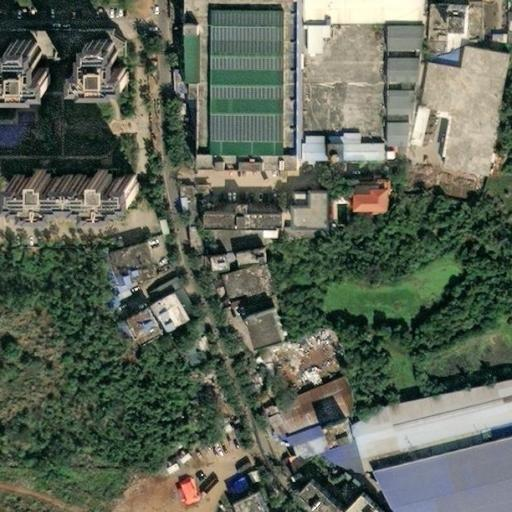building: (185, 0, 306, 171), (347, 378, 512, 475), (419, 48, 506, 178), (371, 440, 512, 512), (273, 371, 357, 432), (17, 168, 135, 207), (301, 26, 342, 138), (341, 26, 380, 139), (306, 0, 427, 26), (217, 264, 279, 310), (70, 40, 127, 87), (271, 421, 326, 468), (102, 240, 152, 290), (252, 313, 293, 355), (148, 293, 188, 336), (127, 310, 166, 352), (294, 191, 327, 230), (222, 466, 259, 497), (353, 181, 385, 215), (387, 27, 426, 54), (138, 277, 175, 305), (304, 485, 341, 512), (344, 138, 383, 163), (328, 421, 358, 453), (173, 472, 201, 505), (347, 488, 385, 512), (257, 411, 287, 441), (497, 0, 512, 49), (387, 90, 414, 115), (385, 63, 419, 82), (249, 214, 286, 231), (234, 493, 267, 512), (447, 6, 469, 34), (301, 138, 326, 162), (239, 251, 270, 270), (200, 215, 240, 229), (326, 138, 347, 163), (385, 125, 409, 144), (212, 257, 230, 276), (207, 202, 226, 211), (481, 35, 498, 45), (240, 218, 249, 231), (395, 149, 407, 156)
